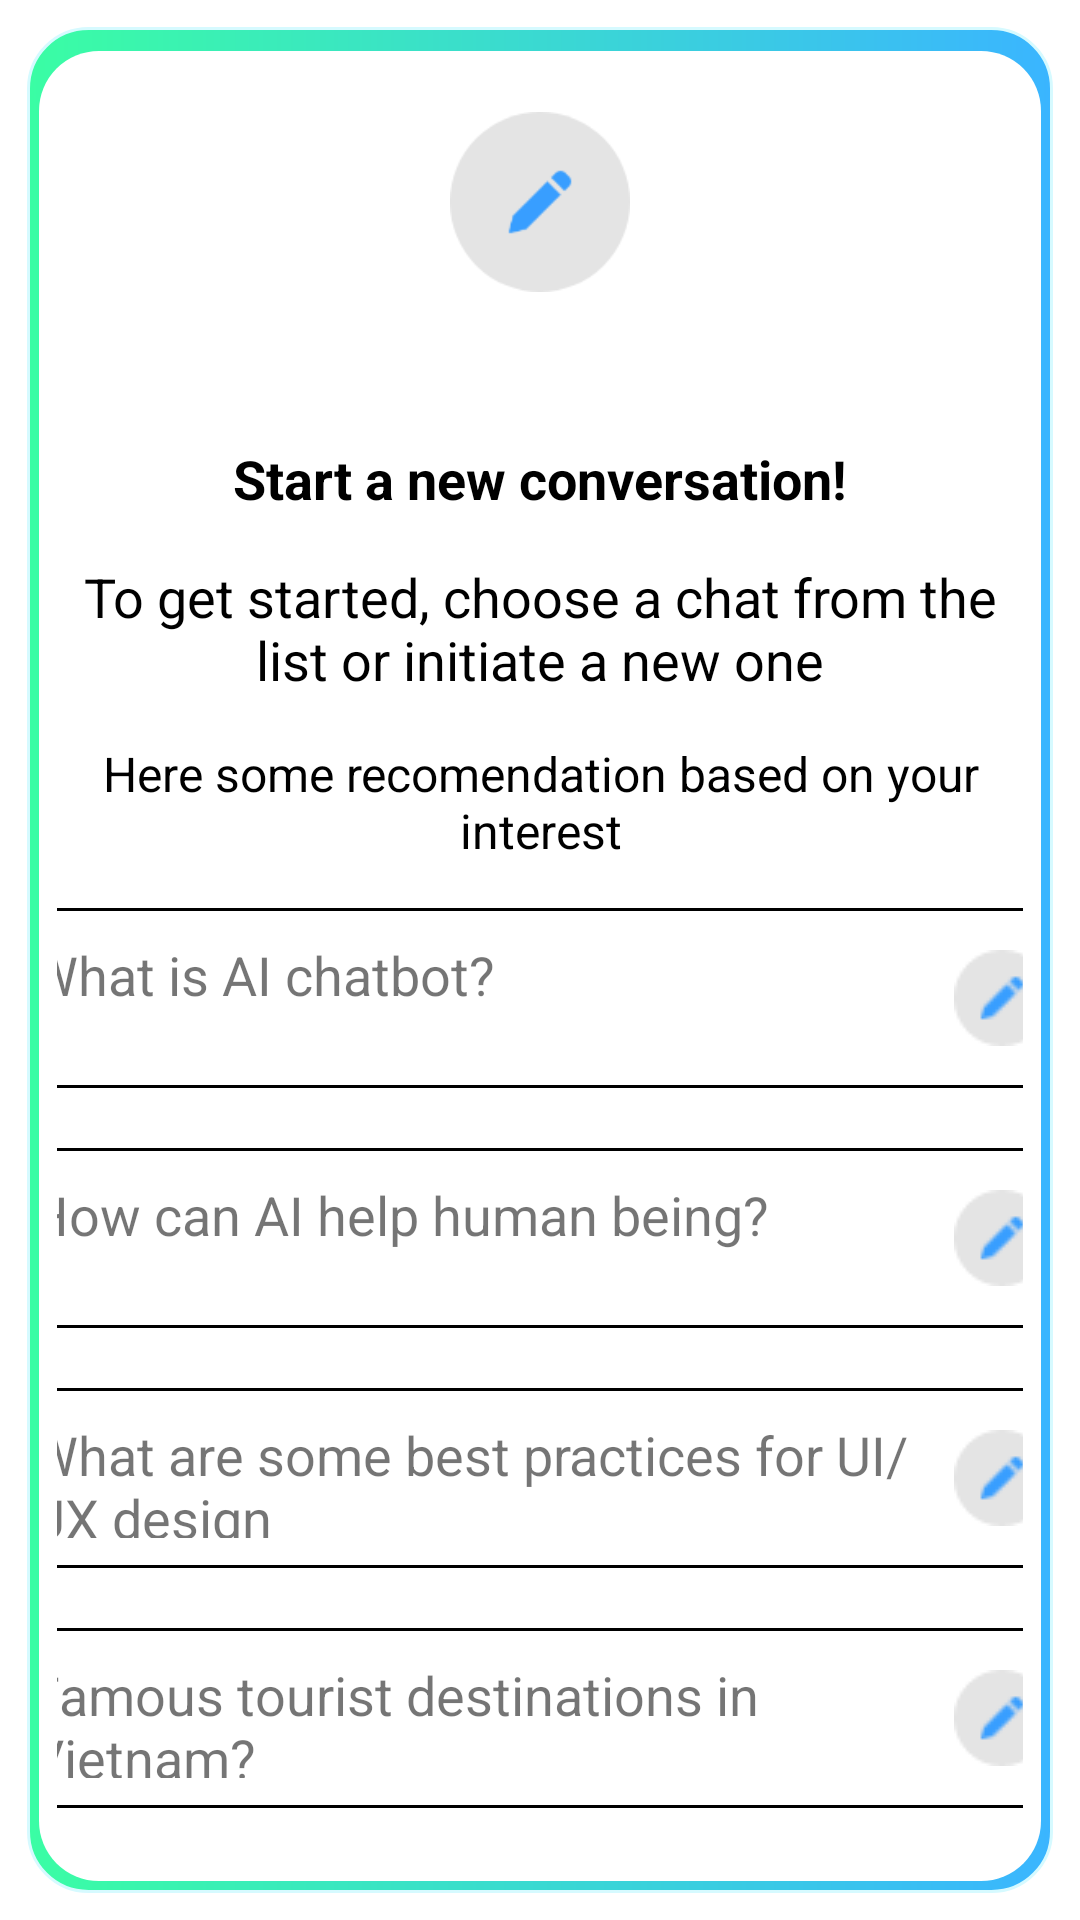

Icons on this 1080 x 1920 Android screen, each with its box as {"left": x1, "top": y1, "right": x2, "bottom": y2}:
pen: {"left": 450, "top": 112, "right": 630, "bottom": 292}
